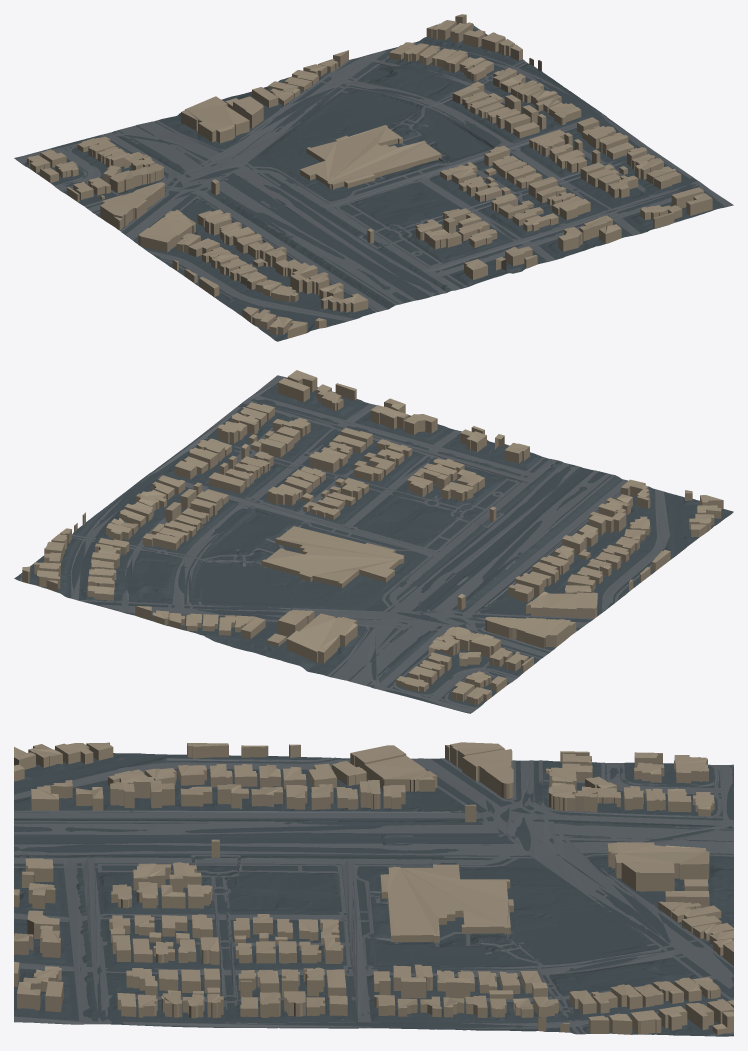
File: epsg26910-1423-10875.lod0.glb
3 views of the same model, one above another, from view 1: azimuth 30°, elevation 25°; view 2: azimuth 150°, elevation 25°; view 3: azimuth 270°, elevation 25° (orthographic). The views are drawn at different scales.
Visible parts, largest first — view 1: epsg26910-1423-10875-lod0; view 2: epsg26910-1423-10875-lod0; view 3: epsg26910-1423-10875-lod0.
Part boxes in pixels (x1,y1,x2,y2): epsg26910-1423-10875-lod0: (14,14,733,341); epsg26910-1423-10875-lod0: (14,370,733,713); epsg26910-1423-10875-lod0: (14,742,733,1036).
Bounding box in the file's own units: 384 × 36.65 × 384.
